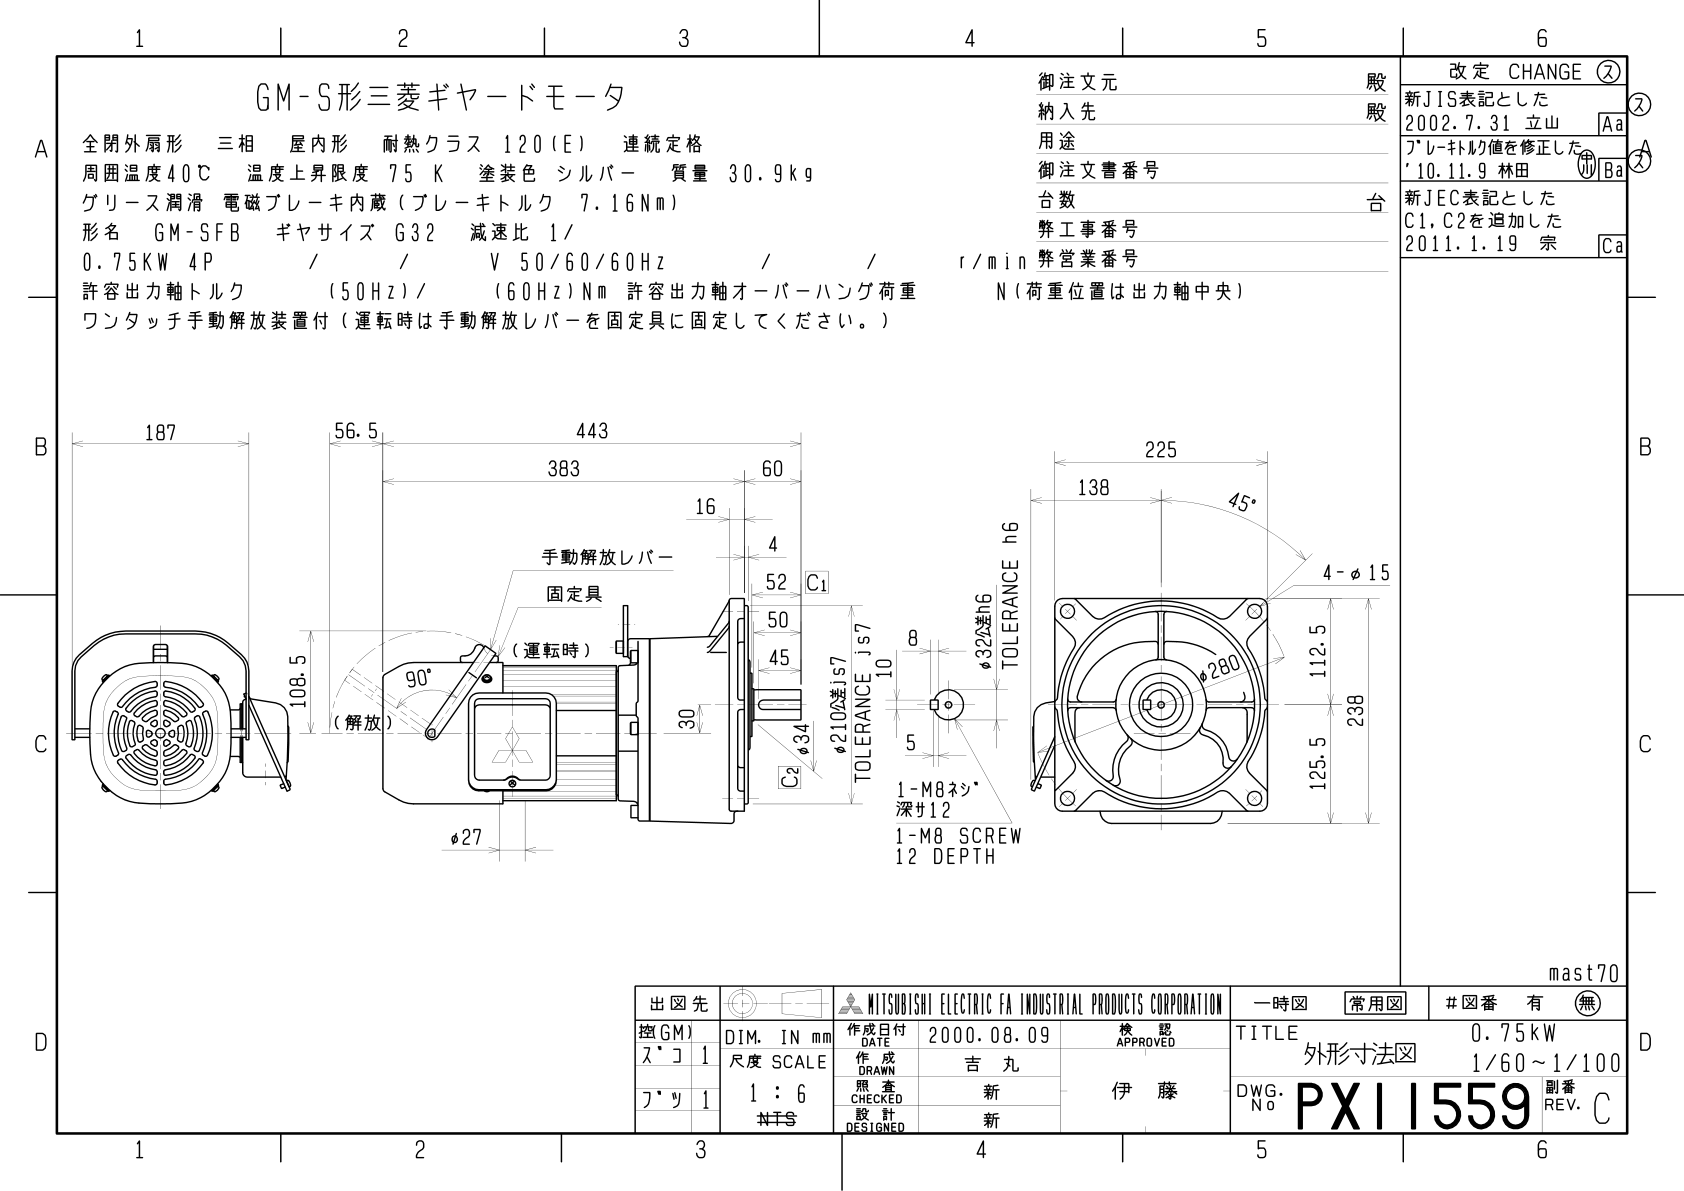GM_S_手動ブレーキ＿三相_フランジ: (6, 3, 1684, 1191)
